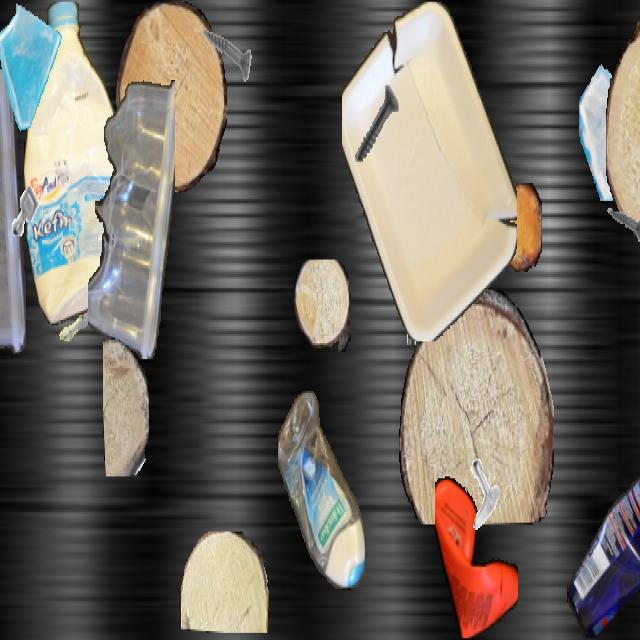glass: (579, 51, 640, 201), (0, 2, 66, 133)
metal: (345, 70, 407, 180), (42, 271, 100, 374), (194, 2, 252, 105), (399, 261, 445, 343), (459, 455, 503, 533), (4, 174, 46, 249), (604, 188, 640, 260)
plastic: (342, 2, 516, 340), (24, 2, 126, 325), (88, 73, 174, 357), (278, 391, 364, 590), (566, 450, 640, 638), (435, 471, 517, 638), (0, 69, 26, 361)
wood: (399, 290, 553, 524), (116, 2, 226, 194), (382, 166, 474, 300), (181, 532, 269, 631), (606, 2, 640, 254), (103, 338, 149, 476), (294, 260, 350, 352), (499, 183, 541, 272), (0, 52, 18, 212)
